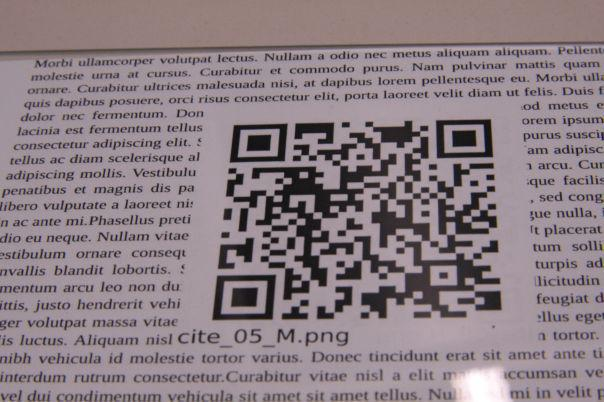Finder pattern: (207, 273, 283, 328), (430, 116, 497, 161), (226, 122, 292, 167)
